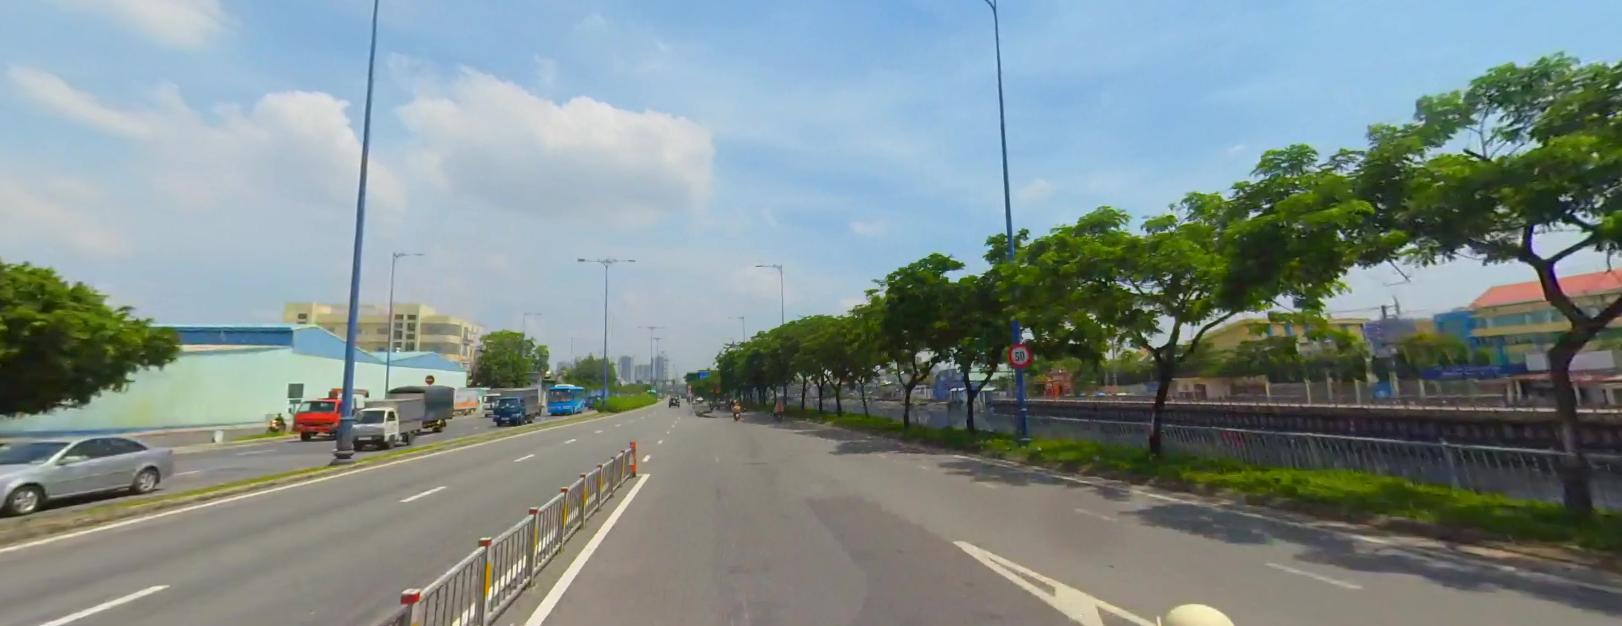Cam nguoc chieu: (425, 374, 434, 382)
Gioi han toc do: (1008, 342, 1032, 366), (1009, 342, 1031, 366)
